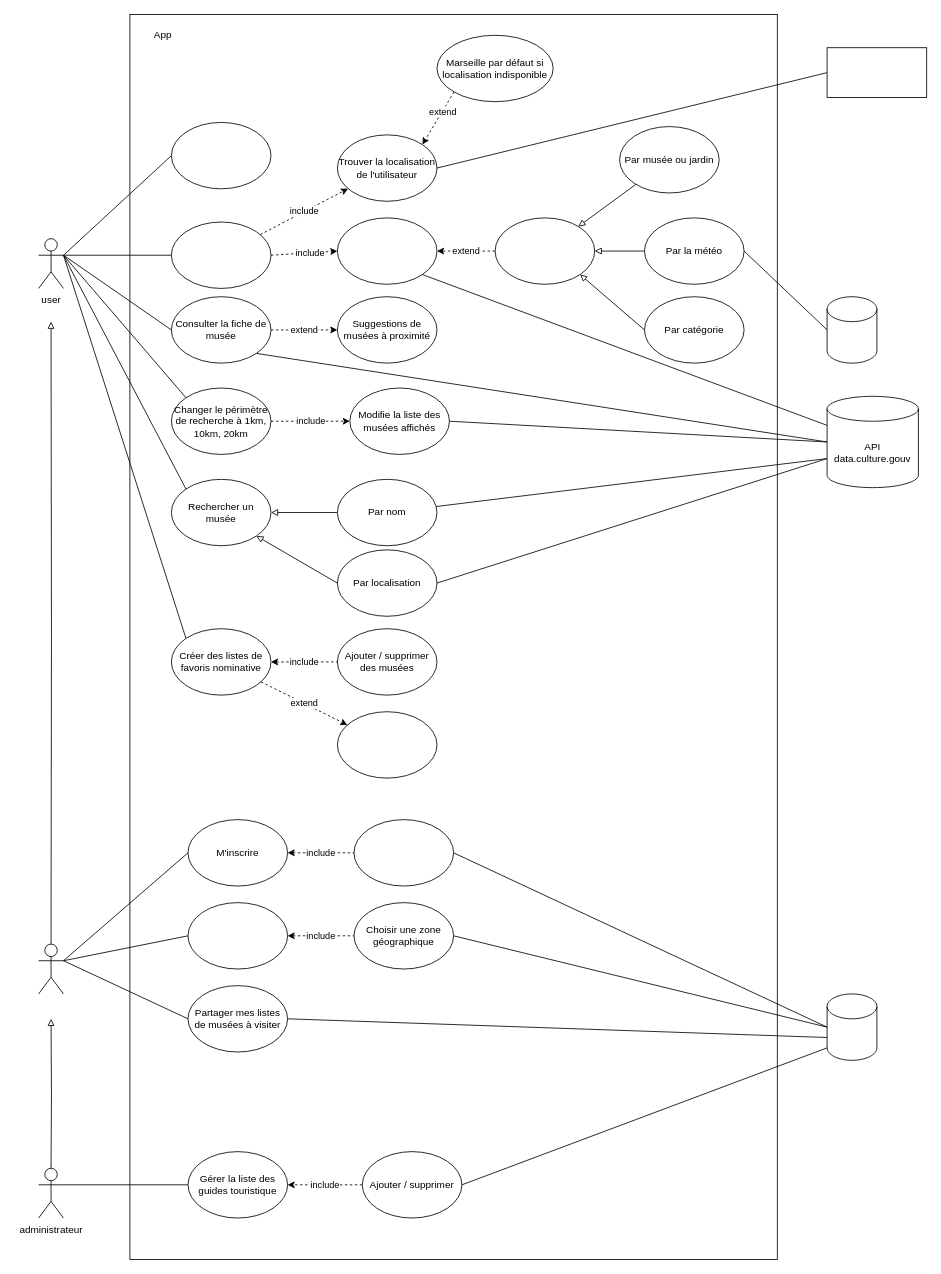
The diagram is 941 pixels wide and 1274 high, and some of its shapes have lost their labels. Each missing label, with the centre of its shape:
"<<actor>> Web Browser" goes at pixel 876 72.
"Afficher les musées" goes at pixel 221 254.
"API Weather" goes at pixel 851 329.
"Changer l'interface en light/dark mode" goes at pixel 221 155.
"Donner mes coordonnées" goes at pixel 403 852.
"Filtrer les résultats" goes at pixel 544 250.
"guide touristique" goes at pixel 50 968.
"MYSQL" goes at pixel 851 1026.
"Proposer mes services aux users" goes at pixel 237 935.
"Renommer les listes" goes at pixel 387 744.
"Voir la liste des musées sur une carte" goes at pixel 387 250.
